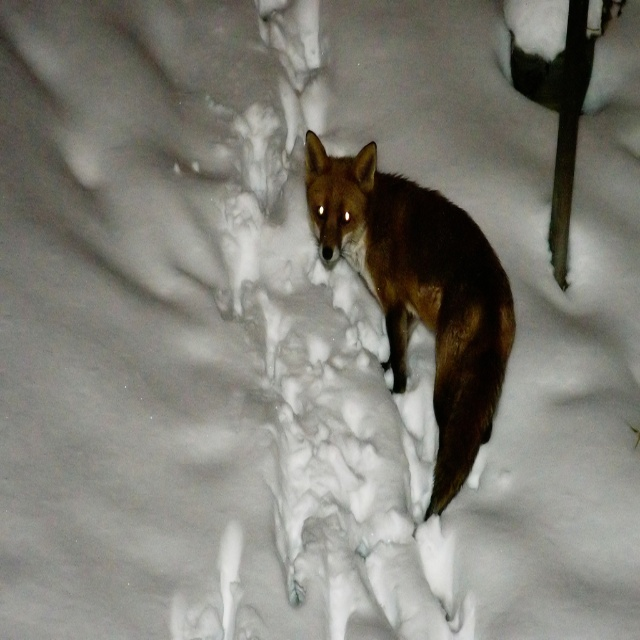Fox: (303, 127, 517, 526)
